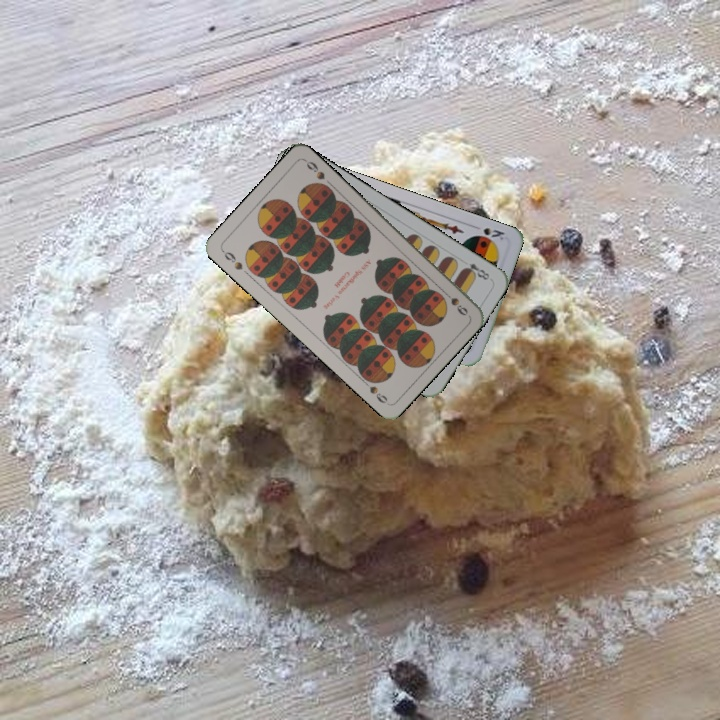E8: (459, 259, 492, 283)
S9: (438, 286, 471, 318), (218, 246, 245, 273)
SK: (469, 221, 507, 243)
